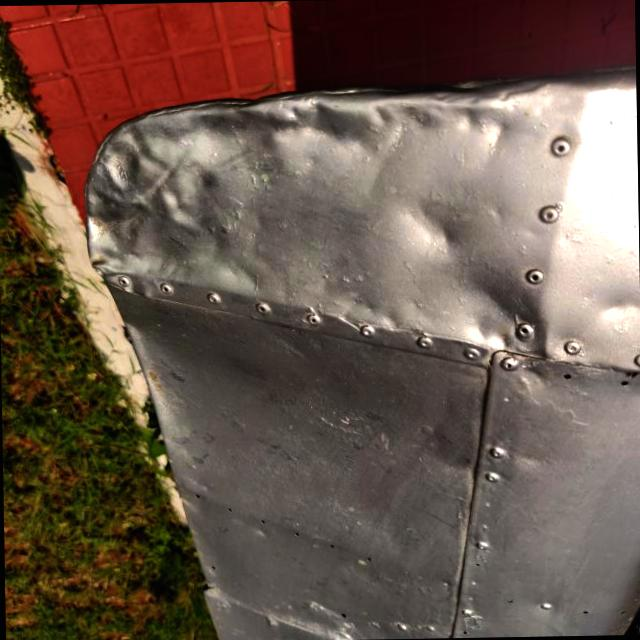dent: (211, 66, 554, 181), (74, 123, 242, 275), (456, 259, 552, 363), (384, 180, 479, 274), (581, 272, 640, 345)
